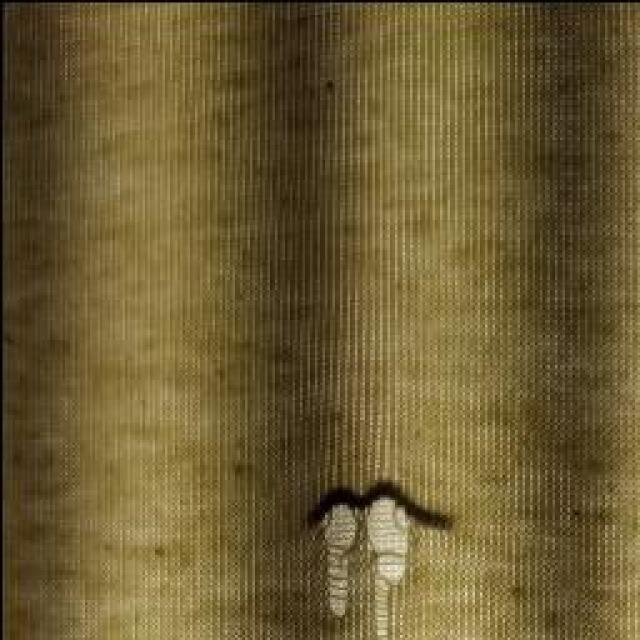other: (252, 436, 461, 640)
